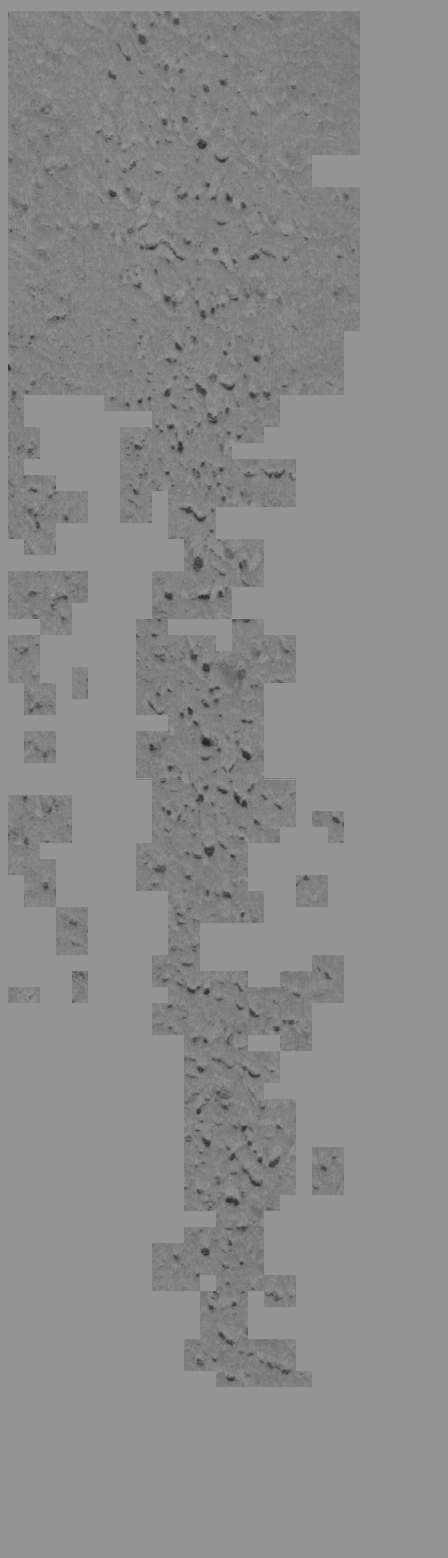oxl: (35, 10, 413, 1548)
